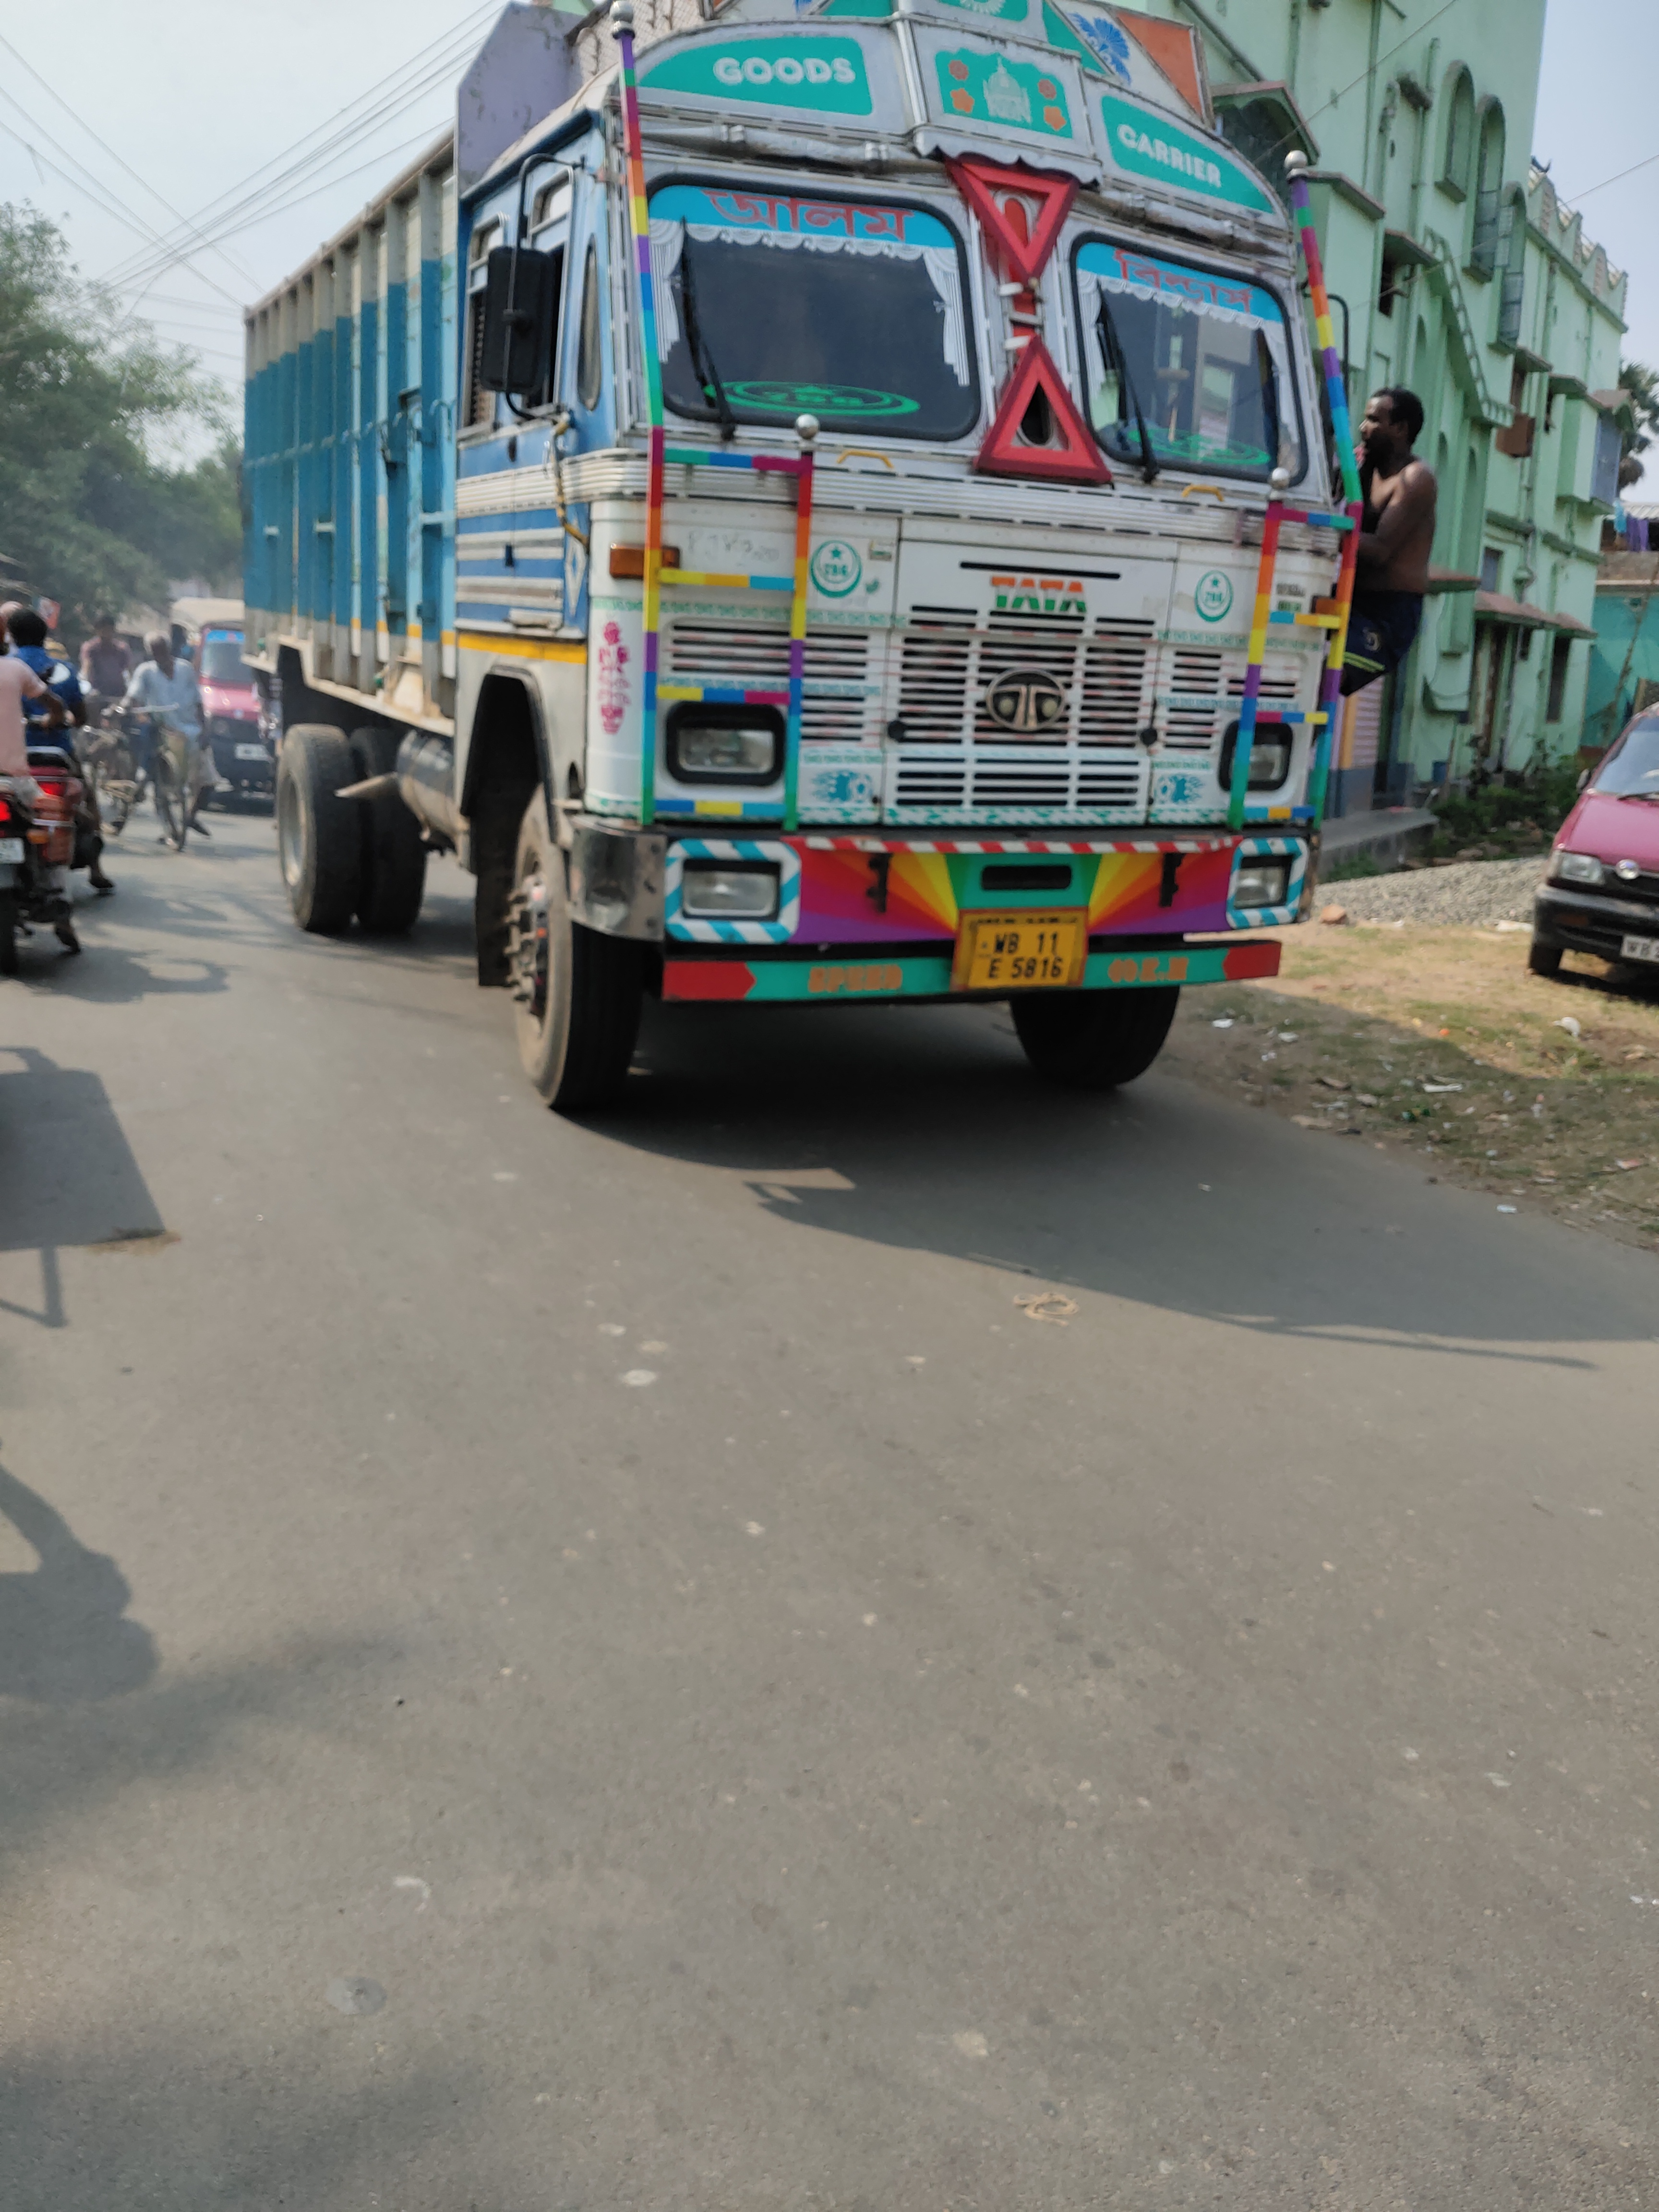truck: (237, 0, 1370, 1118)
